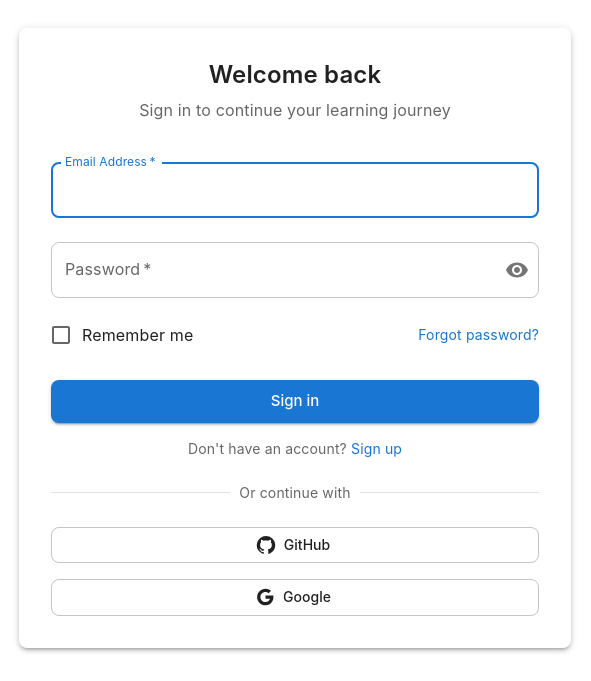
Test: LoginPage › should show validation error for empty password
In the field labelled "Email Address *": (295, 190) [51,162,539,218], type "test@example.com"
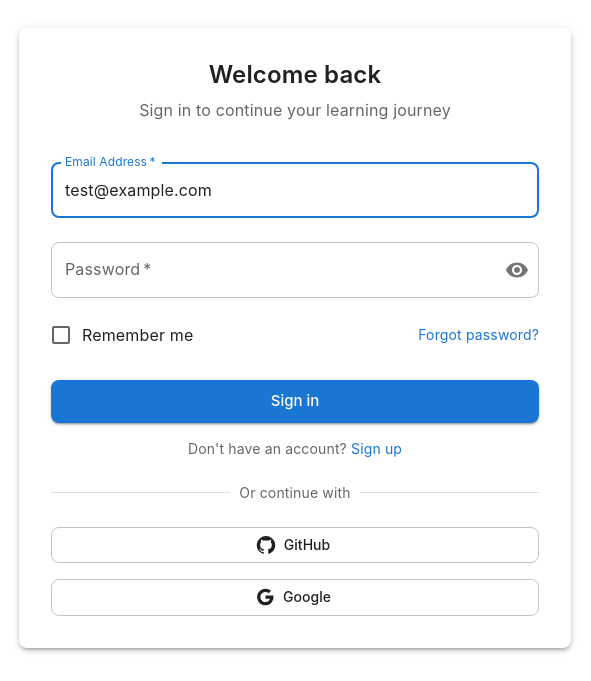
Click the button "Sign in": click(295, 402) [51,380,539,423]
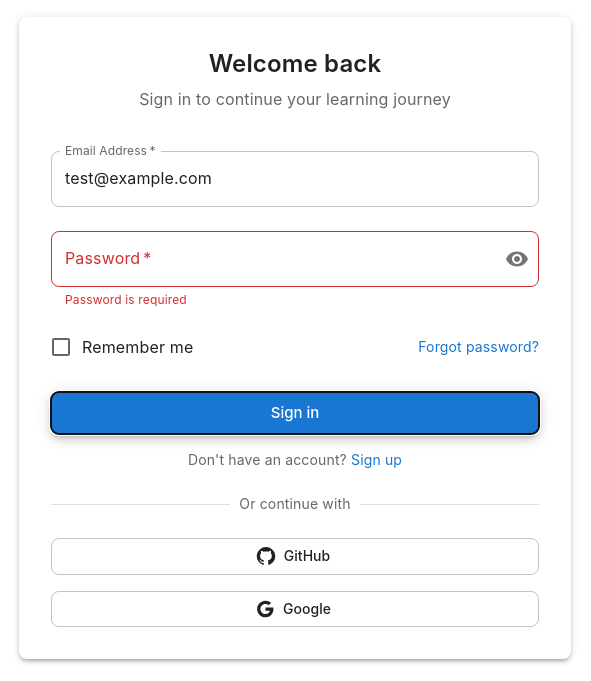
Now the text "Password is required" is shown, box [65,292,187,307]
